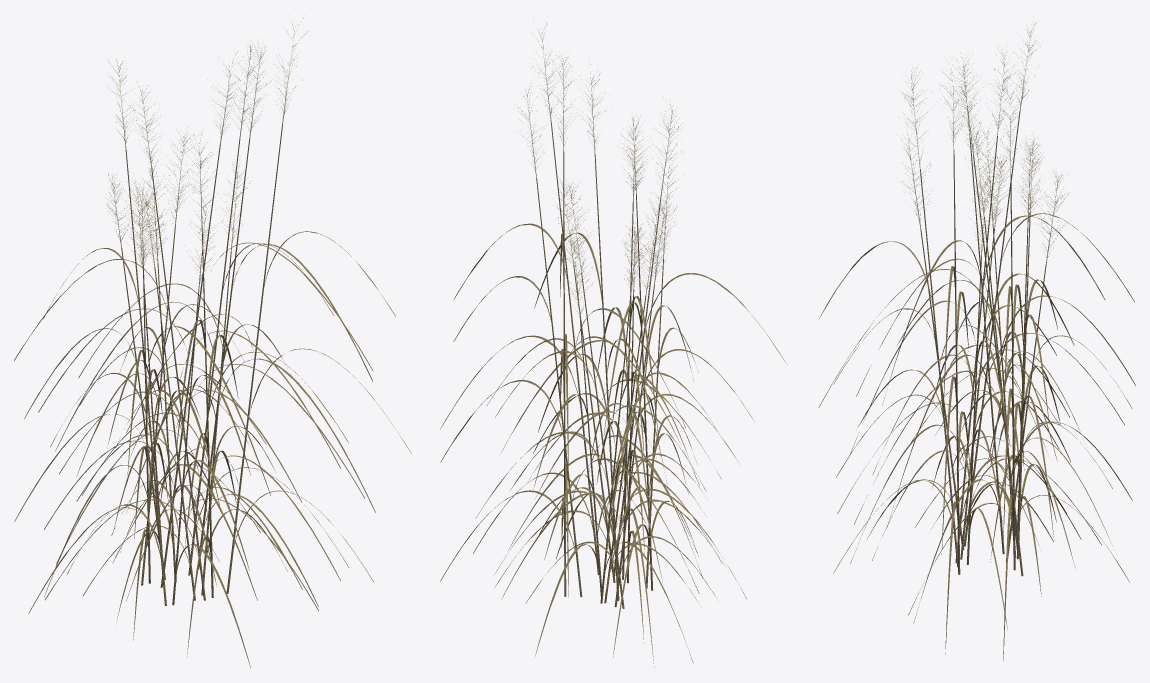
File: saccharum-5-lite.glb
The picture shows the model from 3 angles, left to right: view 1: azimuth 30°, elevation 25°; view 2: azimuth 150°, elevation 25°; view 3: azimuth 270°, elevation 25°; orthographic projection. The views are drawn at different scales.
Parts seen in each view (by area): view 1: grass-leaf, stem, panicle, rachis; view 2: grass-leaf, stem, panicle, rachis, silky-hairs; view 3: grass-leaf, stem, panicle, rachis, silky-hairs.
Part boxes in pixels (x1,y1,x2,y2): grass-leaf: (14,231,411,668); stem: (121,124,282,605); panicle: (107,25,307,286); rachis: (114,33,294,291); grass-leaf: (440,223,786,667); stem: (536,123,663,608); panicle: (518,25,678,315); rachis: (528,41,671,321); silky-hairs: (523,20,683,303); grass-leaf: (818,213,1135,660); stem: (920,111,1046,576); panicle: (900,27,1068,257); rachis: (908,35,1057,264); silky-hairs: (897,15,1069,248).
Bounding box in the file's own units: 1.33 × 2.19 × 1.09.
Materials: 4 (2 with a texture image).
